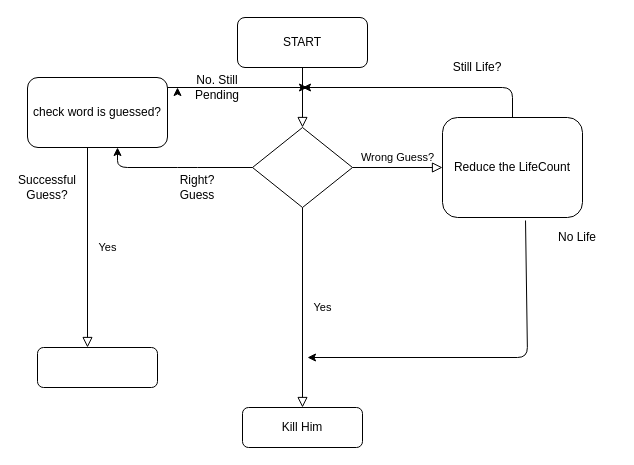
Image size: 634x465. Some labels were removed from this diagram. Each missing label, with the centre of its shape:
Guess letter?: (x=302, y=167)
You Won: (x=97, y=367)
